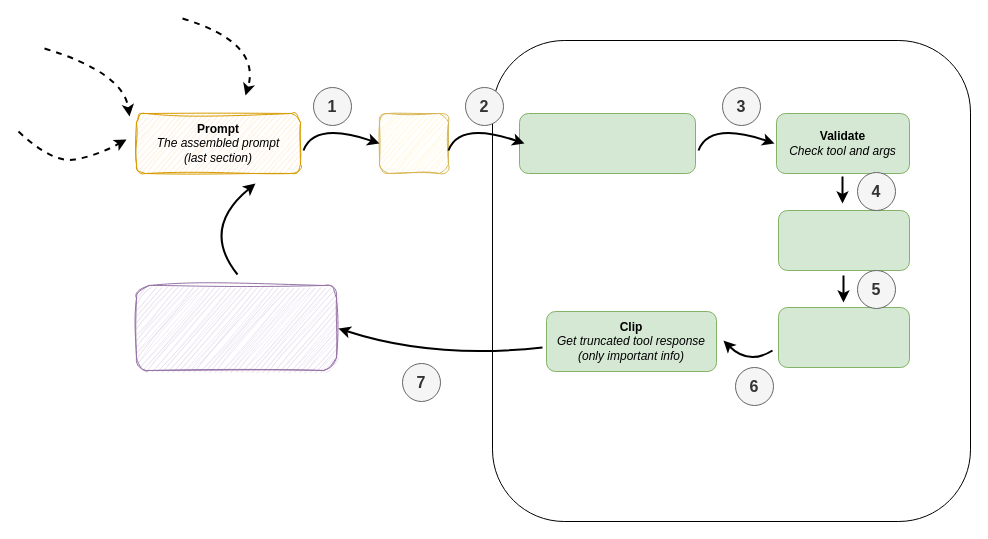
This 988x539 diagram has some shape labels left out. Each missing label, with the centre of its shape:
Approve yes / no: point 844,240
Compact Transcript Recent history: point 236,327
LLM: point 413,143
Model Response <tool> ... </tool>: point 607,143
Run tool Execute tool call: point 844,337
